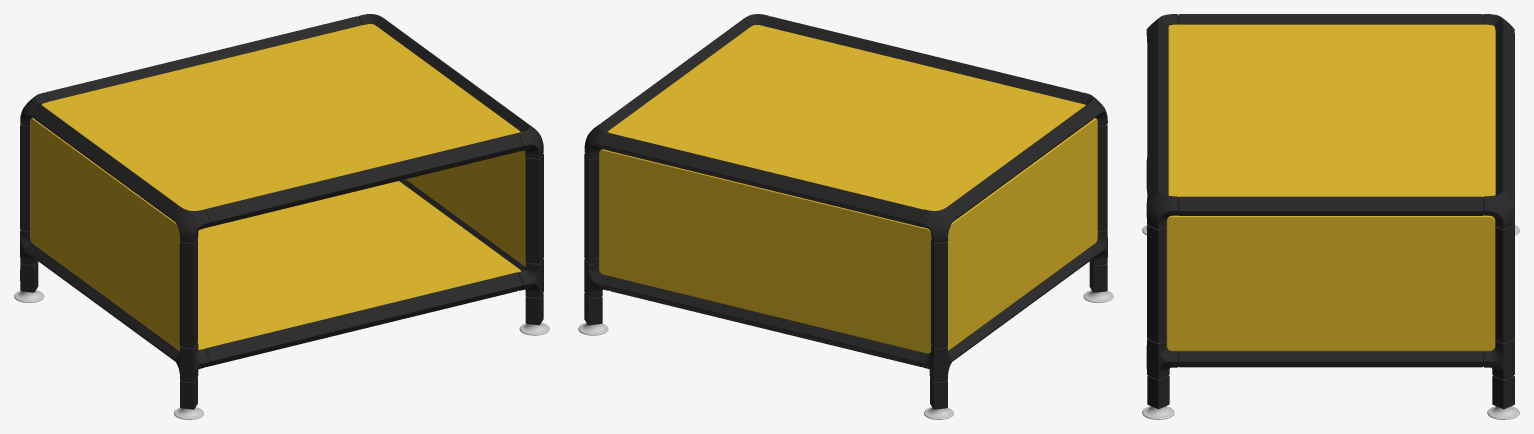
The picture shows the model from 3 angles, left to right: view 1: azimuth 30°, elevation 25°; view 2: azimuth 150°, elevation 25°; view 3: azimuth 270°, elevation 25°; orthographic projection. The views are drawn at different scales.
Visible parts, largest first — view 1: 479x374x154; view 2: 479x374x154; view 3: 479x374x154.
Boxes of the visible parts, <box> form: 479x374x154: <box>14,14,549,419</box>; 479x374x154: <box>578,14,1113,419</box>; 479x374x154: <box>1142,14,1519,419</box>.
Size of the model in its own units: 0.5689 by 0.2933 by 0.4633.
